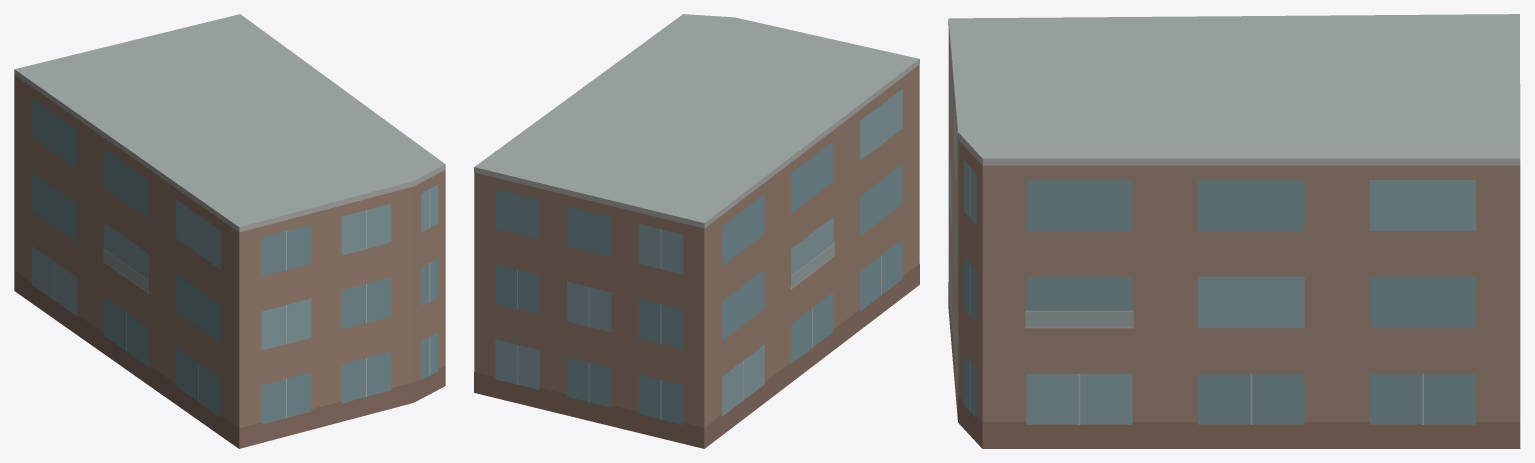
The model's file is survey-upis-32470593.glb.
The picture shows the model from 3 angles, left to right: view 1: azimuth 30°, elevation 25°; view 2: azimuth 150°, elevation 25°; view 3: azimuth 270°, elevation 25°; orthographic projection. The views are drawn at different scales.
Parts seen in each view (by area): view 1: survey-upis-32470593.tmp; view 2: survey-upis-32470593.tmp; view 3: survey-upis-32470593.tmp.
Part boxes in pixels (x1=…): survey-upis-32470593.tmp: x1=14, y1=14, x2=445, y2=448; survey-upis-32470593.tmp: x1=474, y1=14, x2=919, y2=448; survey-upis-32470593.tmp: x1=948, y1=14, x2=1520, y2=448.
Bounding box in the file's own units: 10.82 × 10.1 × 18.04.
